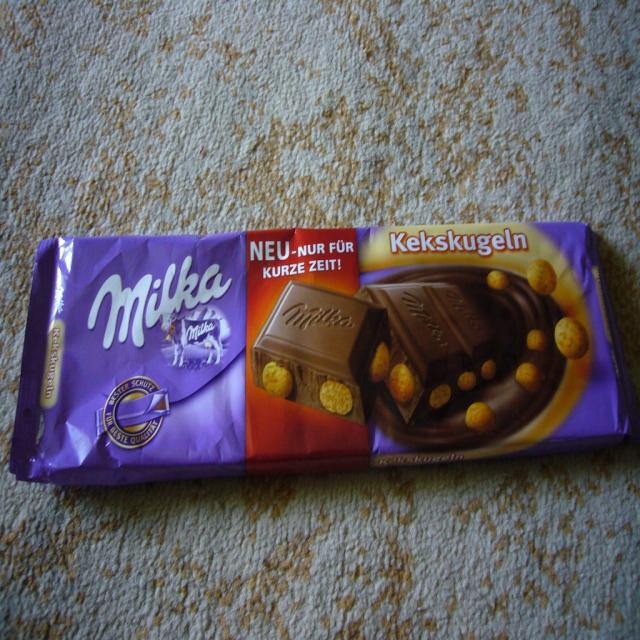milka: (86, 251, 237, 373)
